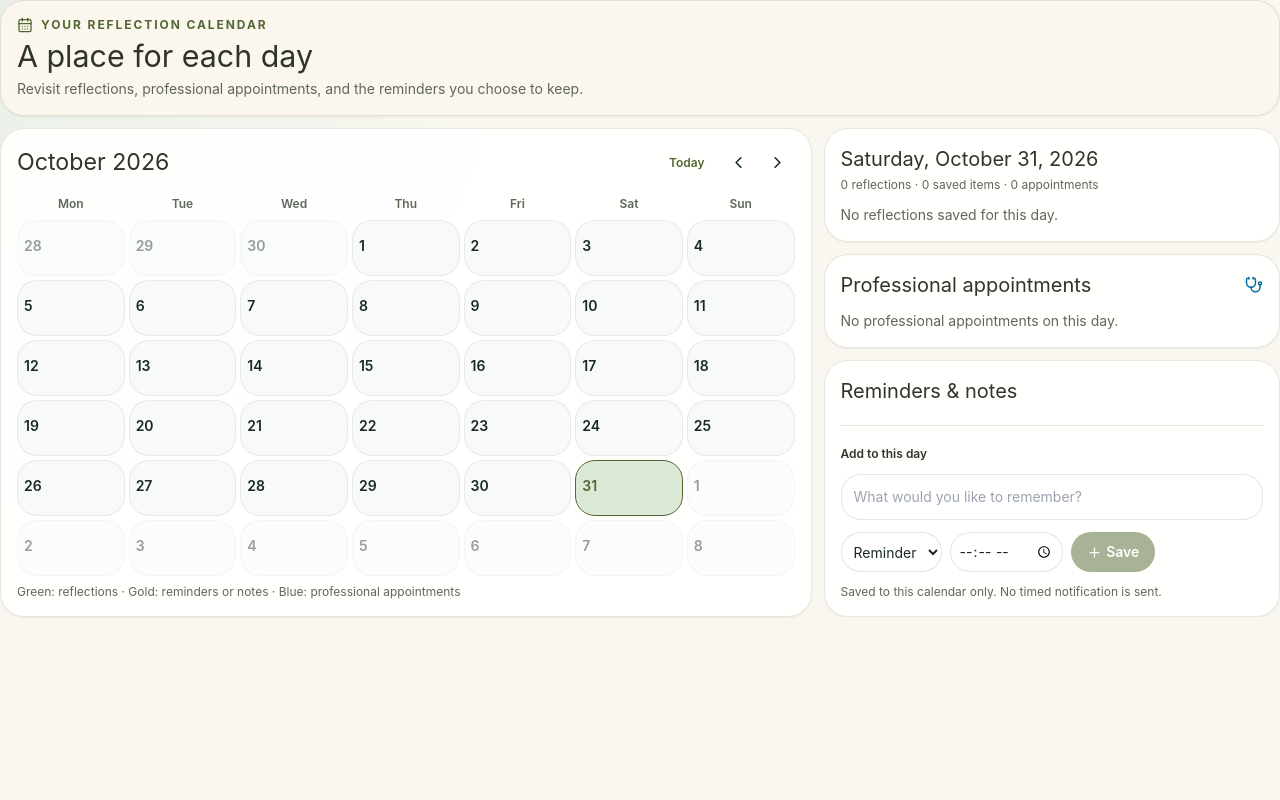
Test: CalendarView › saves a dated item in the calendar without implying a timed notification
Expected: the text "0 reflections · 0 saved items · 0 appointments" is shown, left=840, top=177, right=1099, bottom=192
In the field labelled "Add to this day": (1052, 497) left=840, top=474, right=1263, bottom=520, type "Review tomorrow's journal"
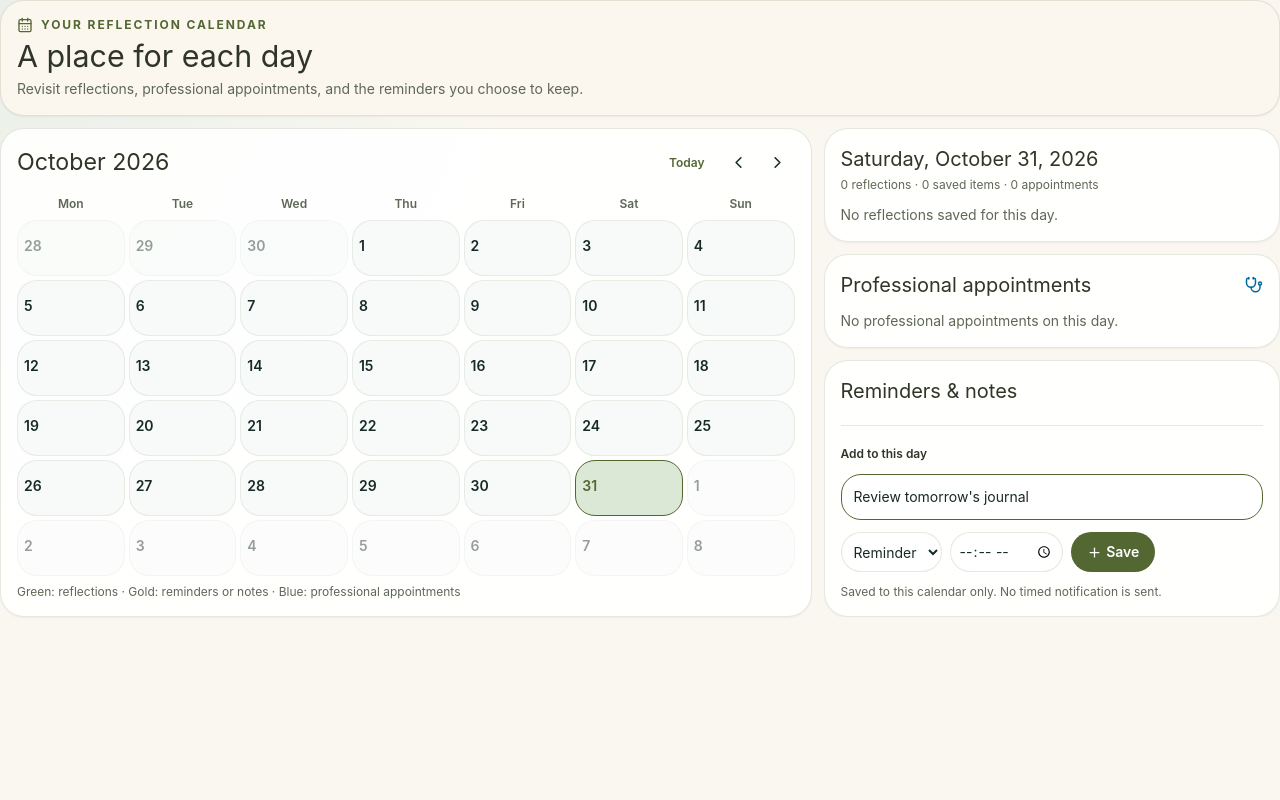
Click the button "Save": (1113, 552) left=1071, top=532, right=1155, bottom=572
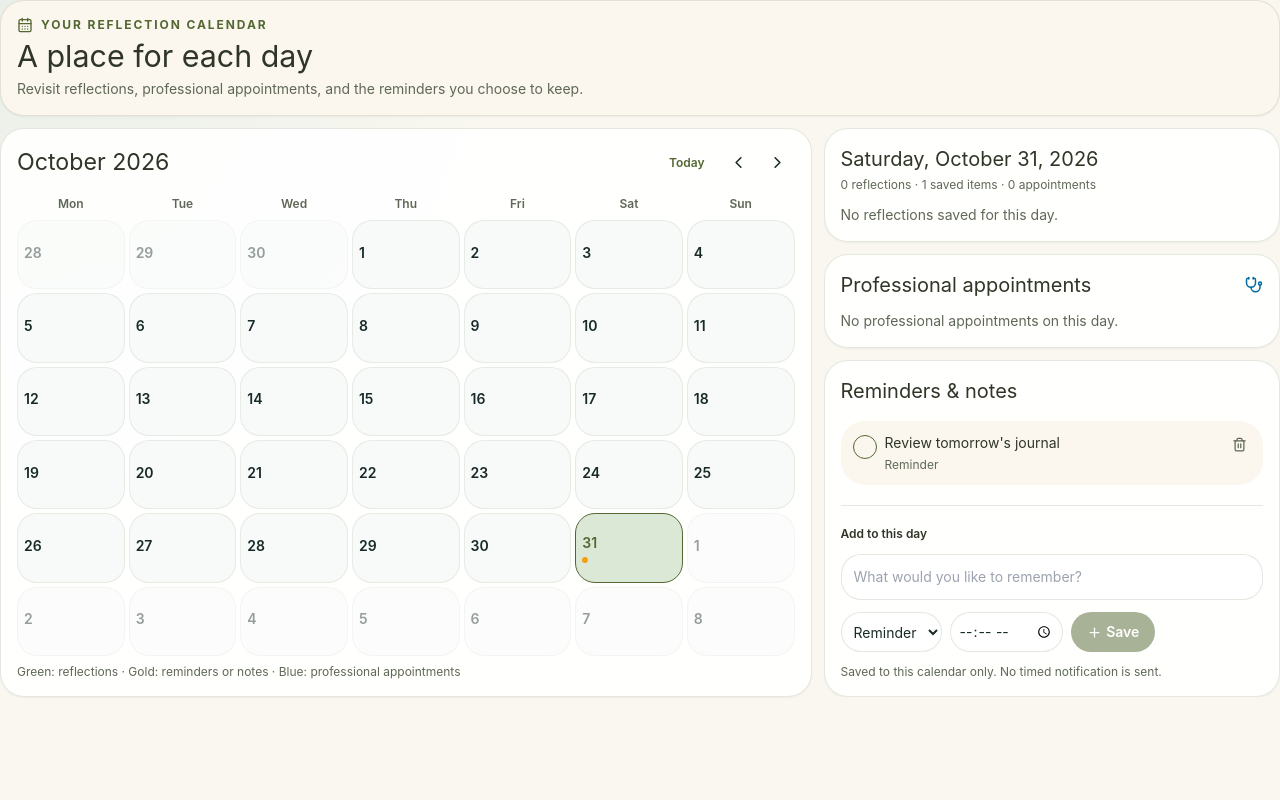
Expected: the text "Saved to this calendar only. No timed notification is sent." is shown, left=840, top=664, right=1162, bottom=679
Expected: the text "Review tomorrow's journal" is shown, left=884, top=434, right=1060, bottom=451
